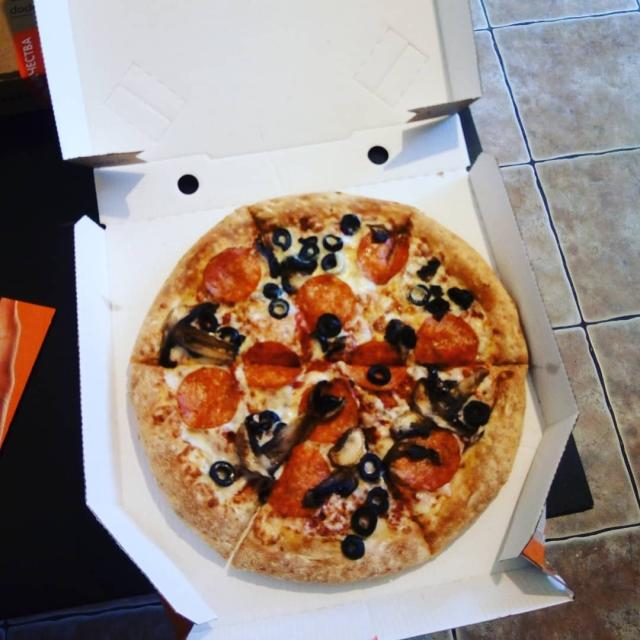black_olives: (318, 229, 344, 274), (346, 505, 378, 537), (462, 396, 492, 429), (317, 308, 345, 342), (430, 286, 455, 323), (389, 317, 418, 348), (208, 457, 238, 485), (242, 408, 276, 430), (338, 533, 365, 559), (367, 485, 388, 517), (368, 362, 394, 387), (359, 453, 382, 481), (416, 254, 437, 283), (211, 323, 239, 343), (328, 467, 353, 489), (338, 209, 361, 232), (262, 279, 285, 301), (268, 300, 290, 320), (301, 233, 315, 261), (270, 224, 286, 246), (371, 222, 388, 242), (410, 288, 431, 304), (198, 312, 214, 332)
mushrooms: (232, 411, 311, 483), (163, 308, 244, 374), (417, 369, 486, 446), (327, 426, 377, 464)
pepperoni: (390, 425, 462, 494), (271, 444, 339, 512), (180, 362, 242, 431), (295, 267, 357, 330), (416, 307, 479, 369), (205, 245, 264, 305), (304, 378, 356, 440), (360, 223, 410, 279), (248, 340, 302, 390), (350, 338, 407, 384)
pizza: (124, 193, 529, 589)
